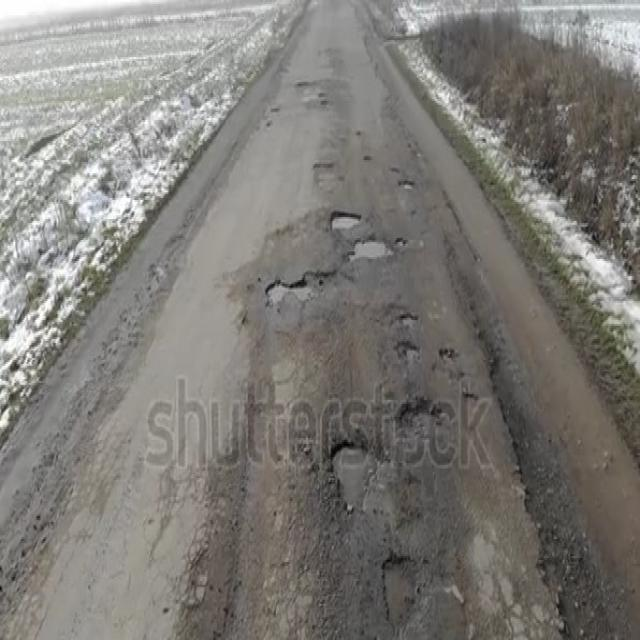pothole: (394, 306, 462, 382), (395, 399, 458, 449), (382, 554, 416, 629), (332, 446, 369, 509), (266, 271, 322, 305), (349, 242, 391, 261), (330, 211, 361, 231), (428, 304, 448, 327)
